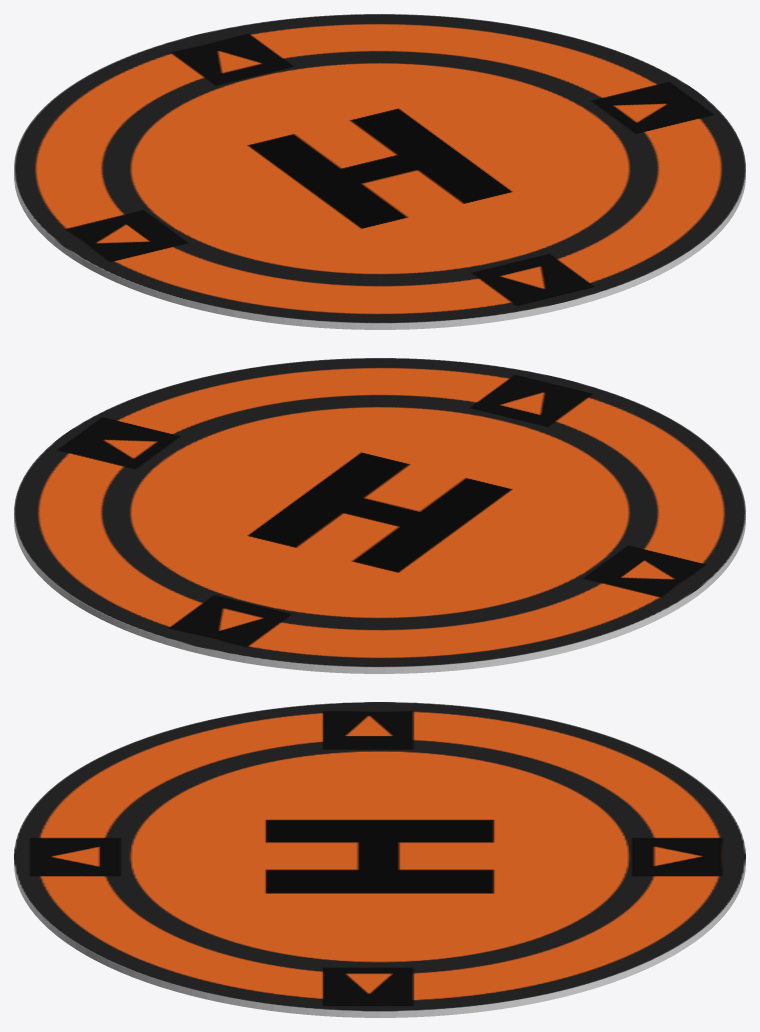
File: LandingPad.glb
3 views of the same model, one above another, from view 1: azimuth 30°, elevation 25°; view 2: azimuth 150°, elevation 25°; view 3: azimuth 270°, elevation 25° (orthographic).
Visible parts, largest first — view 1: LandingPad; view 2: LandingPad; view 3: LandingPad.
Boxes of the visible parts, left/top/right/bottom form: LandingPad: left=14, top=14, right=745, bottom=329; LandingPad: left=14, top=358, right=745, bottom=673; LandingPad: left=14, top=702, right=745, bottom=1017.
Bounding box in the file's own units: 1.5 × 0.015 × 1.5.
Materials: 1 (1 with a texture image).
